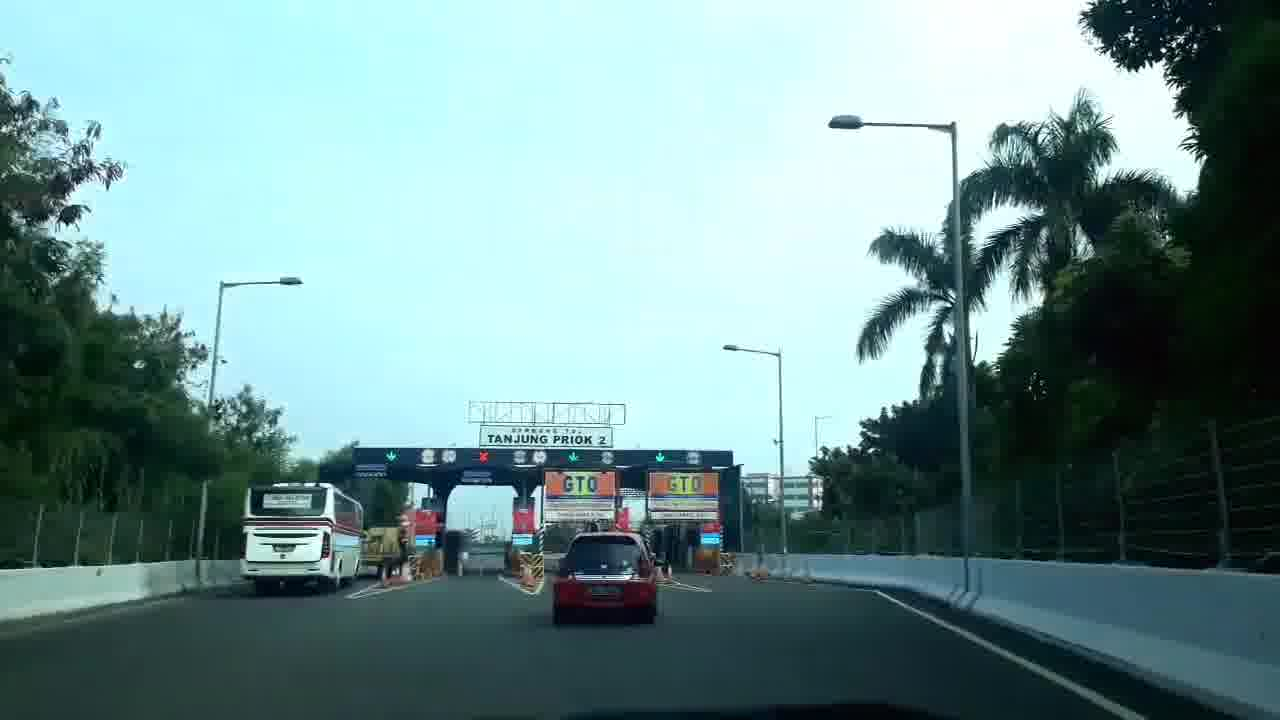plate_positive: (589, 586, 621, 597)
